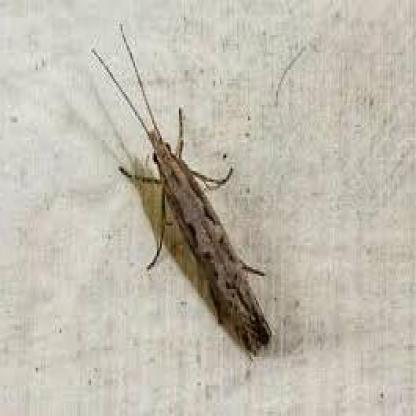plutella: (81, 17, 281, 359)
